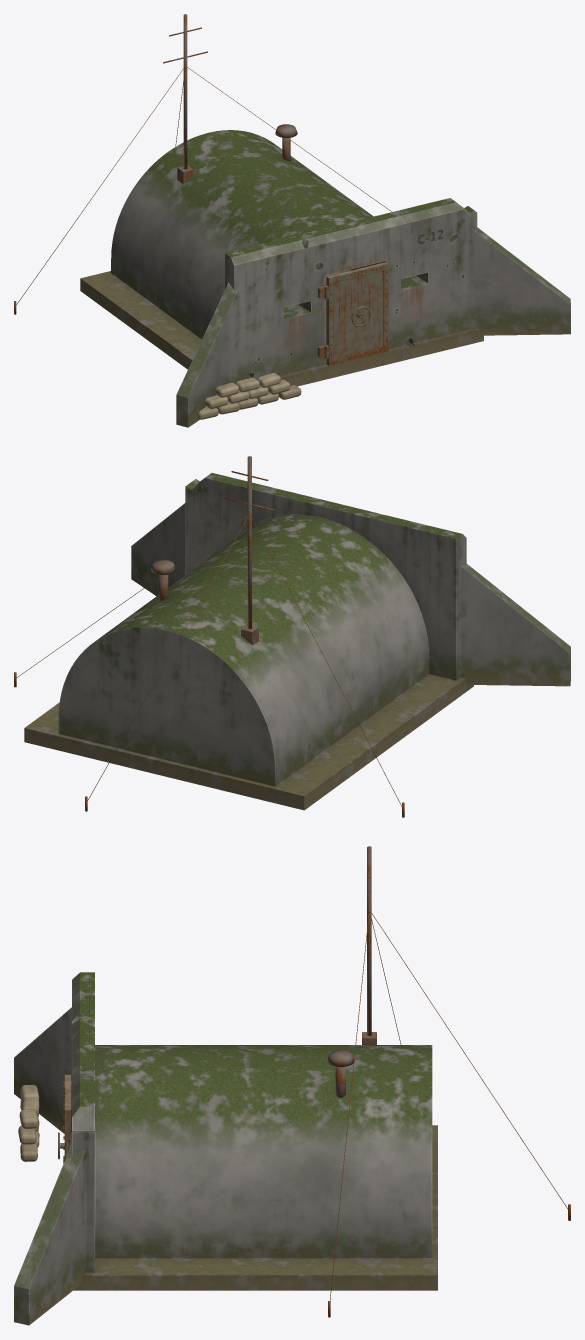
The model's file is Bunker_C.glb.
3 views of the same model, one above another, from view 1: azimuth 30°, elevation 25°; view 2: azimuth 150°, elevation 25°; view 3: azimuth 270°, elevation 25° (orthographic). The views are drawn at different scales.
Visible parts, largest first — view 1: Bunker_C, Bunker_C_Door; view 2: Bunker_C; view 3: Bunker_C, Bunker_C_Door.
Boxes of the visible parts, <box> form: Bunker_C: <box>14,14,570,427</box>; Bunker_C_Door: <box>324,262,388,365</box>; Bunker_C: <box>14,456,570,817</box>; Bunker_C: <box>14,846,570,1325</box>; Bunker_C_Door: <box>58,1074,71,1163</box>.
Size of the model in its own units: 9.89 by 6.55 by 9.74.
Materials: 2 (2 with a texture image).
